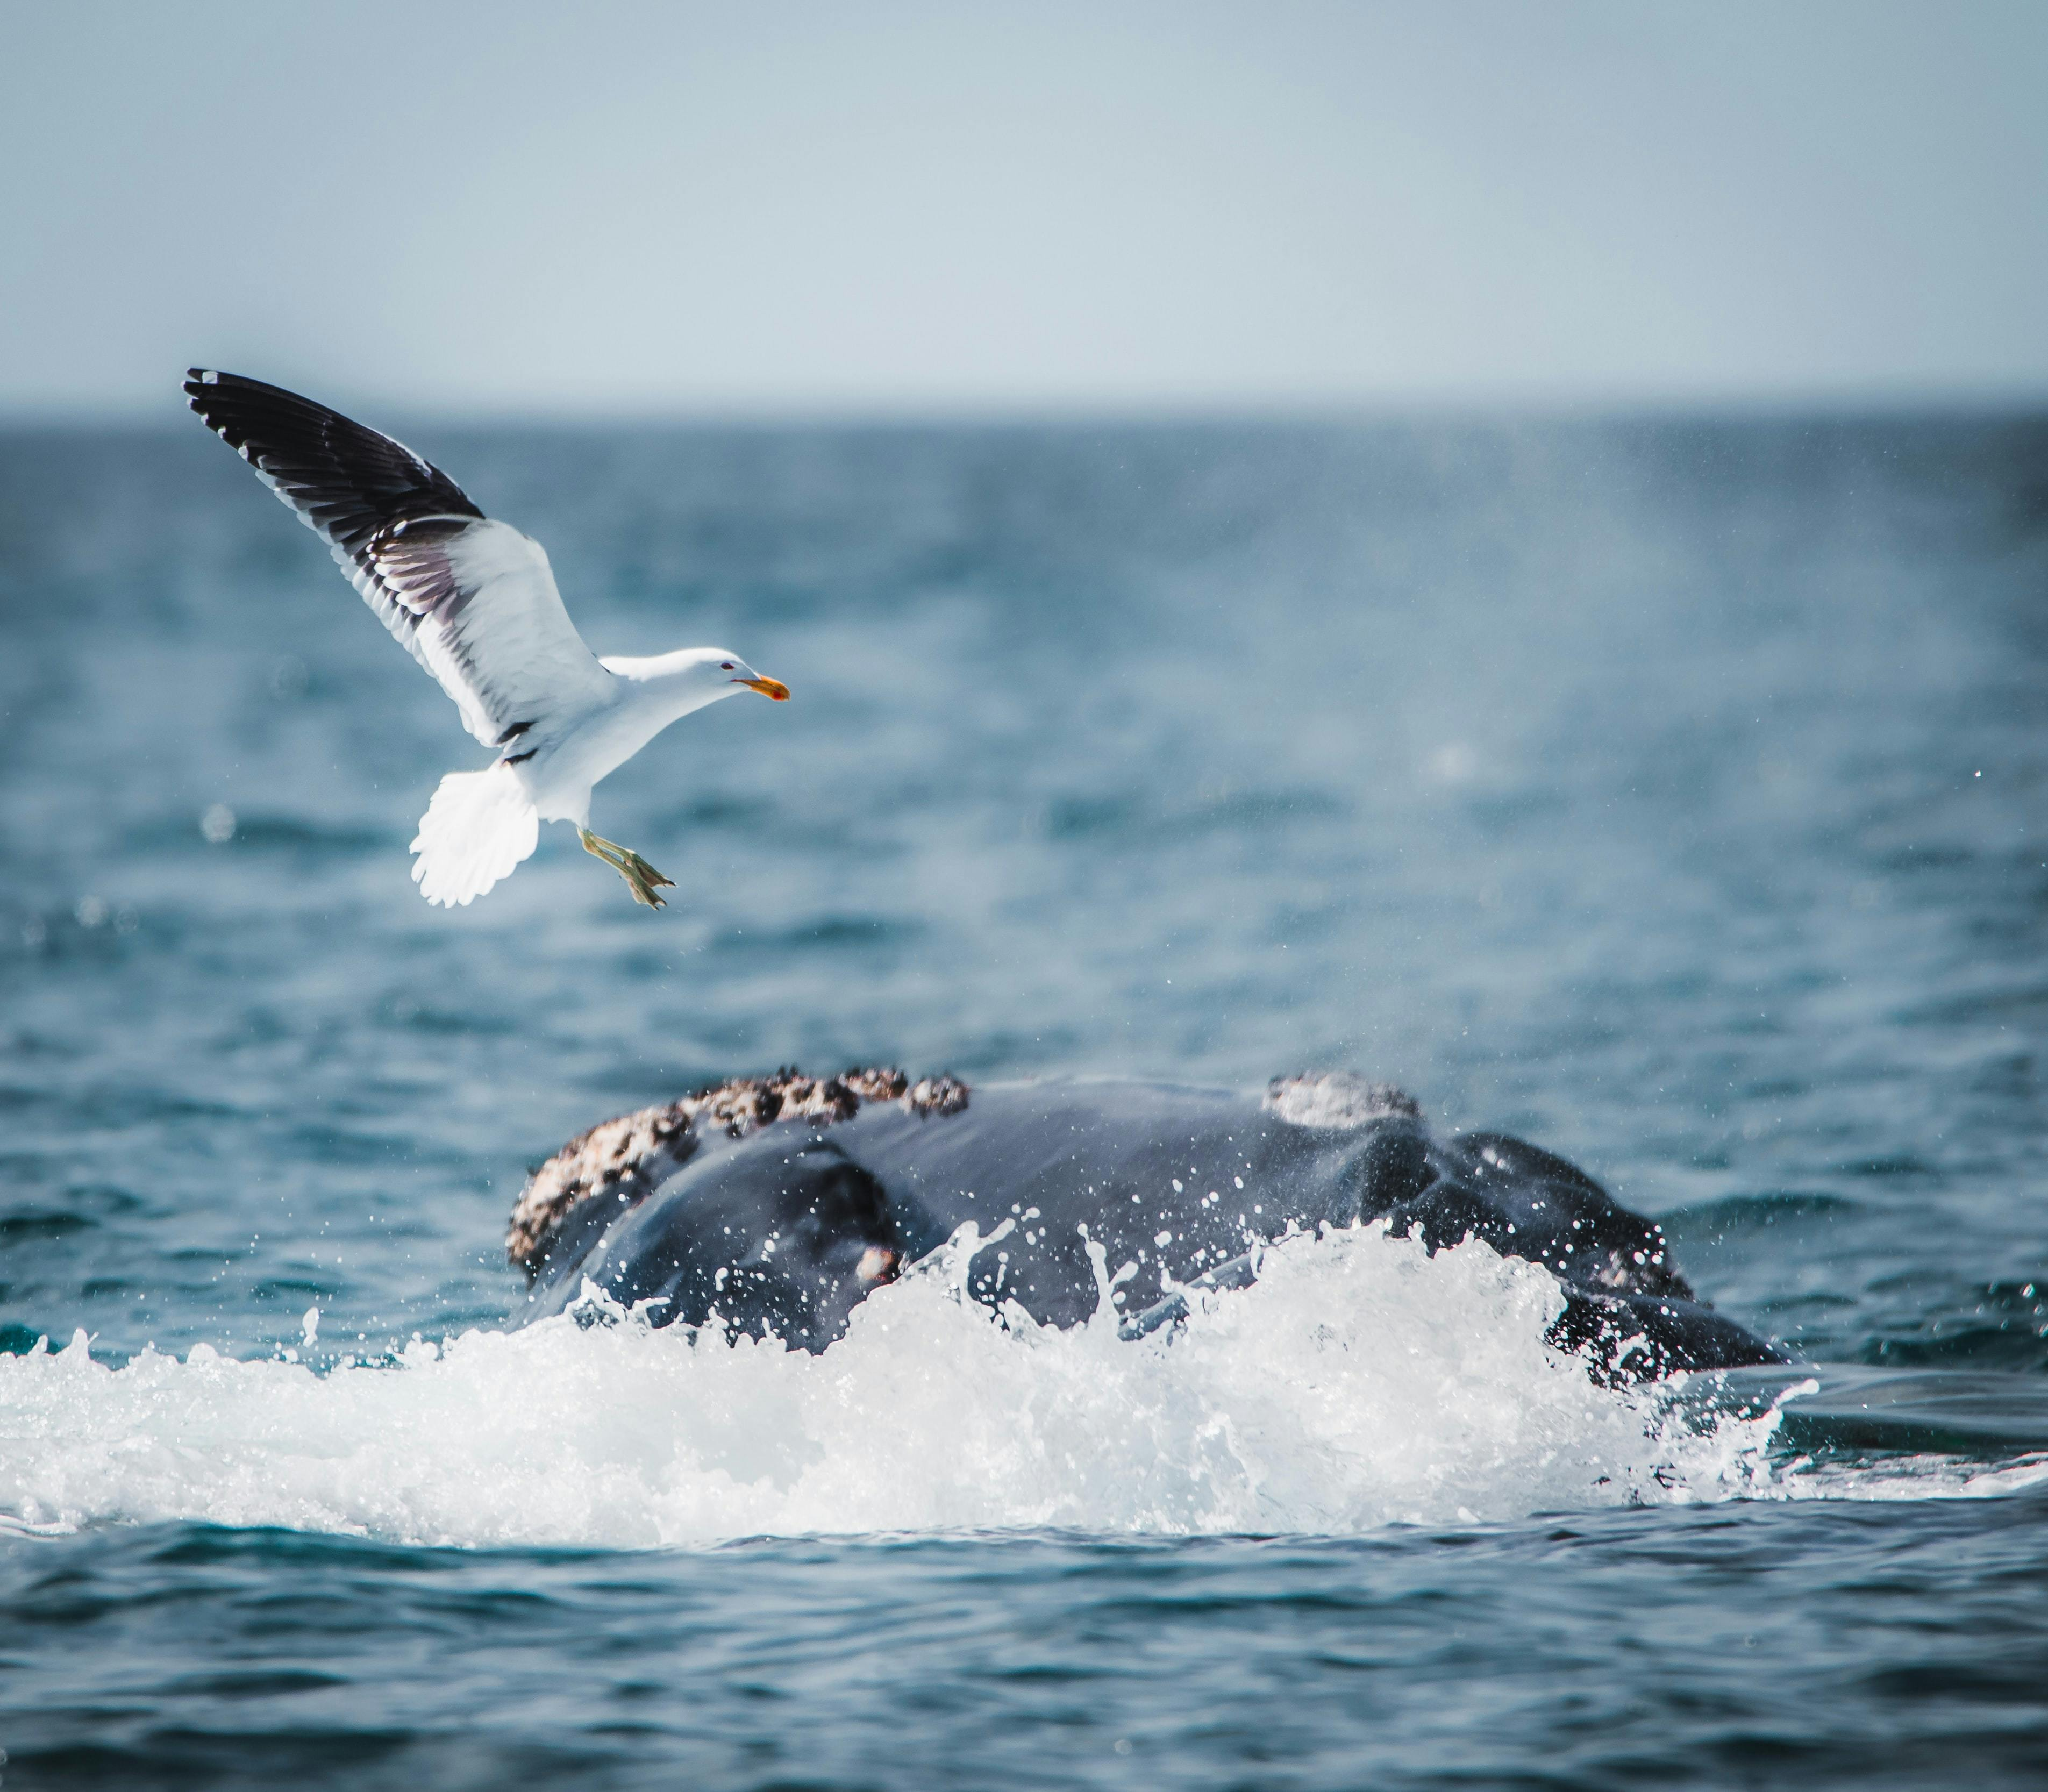whale: (505, 1057, 1792, 1371)
